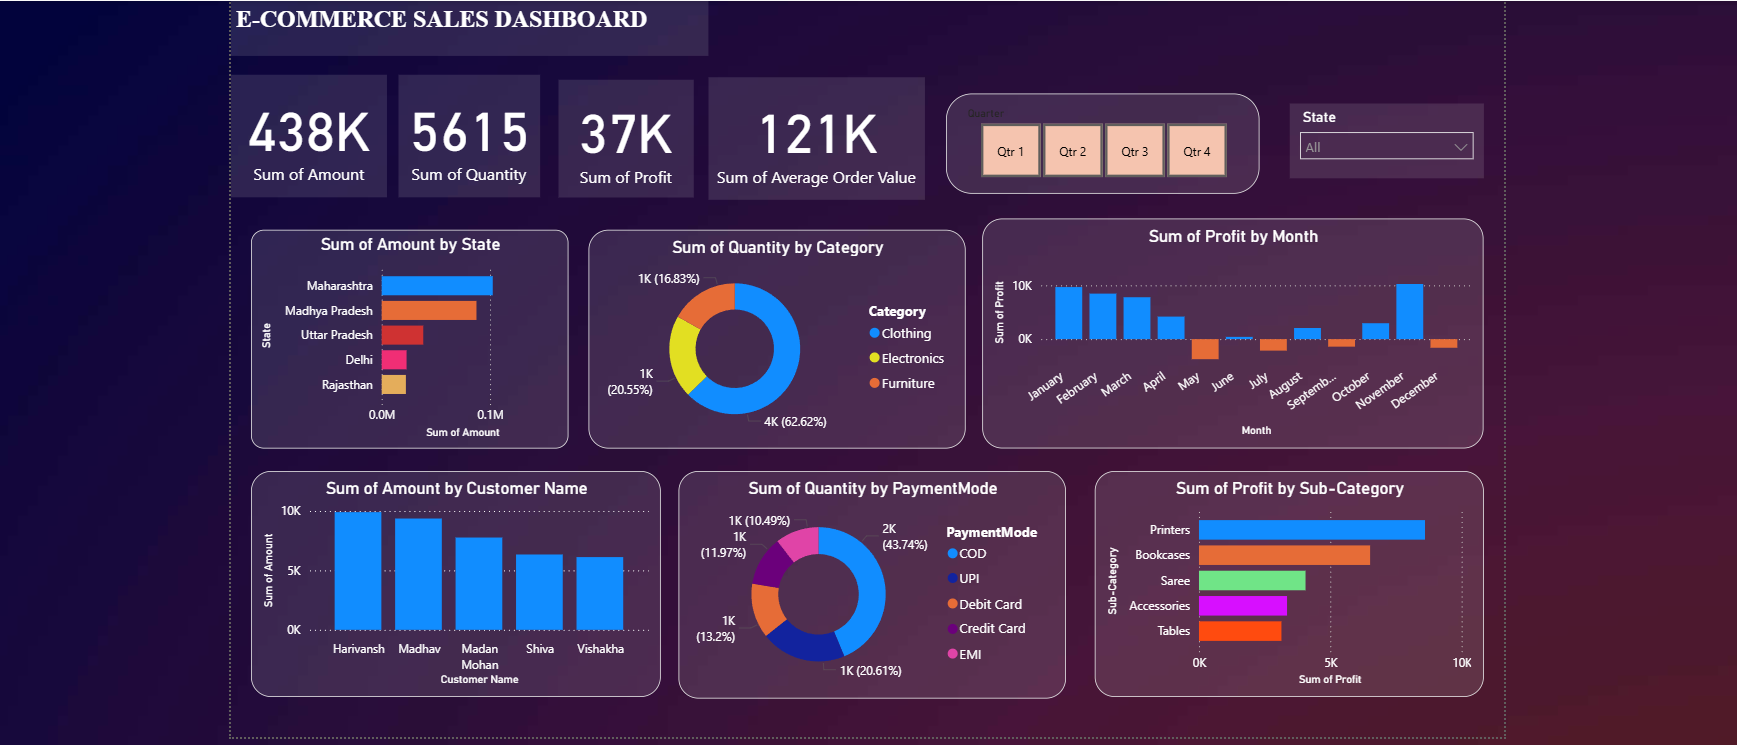

The page's visual inventory and layout, read from the dashboard file:
{"tool":"powerbi","page":{"name":"Page 1","canvas":[1280,740],"ordinal":0},"visuals":[{"type":"textbox","box":[0,0,480.3,54.9],"z":0},{"type":"columnChart","fields":{"Category":["Orders (1).Order Date.Variation.Date Hierarchy.Year","Orders (1).Order Date.Variation.Date Hierarchy.Month"],"Y":["Details.Profit"]},"box":[755.7,218.9,503.8,231.1],"z":1},{"type":"barChart","fields":{"Category":["Details.Sub-Category"],"Y":["Details.Profit"]},"box":[868.4,472.6,390.9,227.5],"z":2},{"type":"donutChart","fields":{"Category":["Details.Category"],"Y":["Details.Quantity"]},"box":[359.5,229.9,379.1,220.1],"z":3},{"type":"donutChart","fields":{"Y":["Details.Quantity"],"Category":["Details.PaymentMode"]},"box":[449.9,472.6,389.6,228.7],"z":4},{"type":"card","fields":{"Values":["Details.Amount"]},"box":[0,74.2,157.1,123.2],"z":5},{"type":"card","fields":{"Values":["Details.Quantity"]},"box":[168.4,74.2,142,123.2],"z":6},{"type":"card","fields":{"Values":["Details.Profit"]},"box":[329.3,79.2,135.7,118.1],"z":7},{"type":"card","fields":{"Values":["Details.Average Order Value"]},"box":[480.1,76.7,217.4,123.2],"z":8},{"type":"barChart","fields":{"Category":["Orders (1).State"],"Y":["Details.Amount"]},"box":[20.1,230,319.2,219.9],"z":9},{"type":"columnChart","fields":{"Category":["Orders (1).Customer Name"],"Y":["Details.Amount"]},"box":[20.1,472.6,412.2,227.5],"z":10},{"type":"slicer","fields":{"Values":["Orders (1).Order Date.Variation.Date Hierarchy.Quarter"]},"box":[718.9,93,315.5,100.5],"z":11},{"type":"slicer","fields":{"Values":["Orders (1).State"]},"box":[1064.5,103.1,194.8,75.4],"z":12}]}

Visuals, with their boxes on the page's 1280x740 design canvas (x1, y1, x2, y2). These are canvas units, not pixel positions in the 1737x745 screenshot, which may show the page scaled, cropped or inside an application window:
textbox: detection(0, 0, 480, 55)
columnChart - Orders (1).Order Date.Variation.Date Hierarchy.Year x Orders (1).Order Date.Variation.Date Hierarchy.Month: detection(756, 219, 1260, 450)
barChart - Details.Sub-Category x Details.Profit: detection(868, 473, 1259, 700)
donutChart - Details.Category x Details.Quantity: detection(360, 230, 739, 450)
donutChart - Details.Quantity x Details.PaymentMode: detection(450, 473, 840, 701)
card - Details.Amount: detection(0, 74, 157, 197)
card - Details.Quantity: detection(168, 74, 310, 197)
card - Details.Profit: detection(329, 79, 465, 197)
card - Details.Average Order Value: detection(480, 77, 698, 200)
barChart - Orders (1).State x Details.Amount: detection(20, 230, 339, 450)
columnChart - Orders (1).Customer Name x Details.Amount: detection(20, 473, 432, 700)
slicer - Orders (1).Order Date.Variation.Date Hierarchy.Quarter: detection(719, 93, 1034, 194)
slicer - Orders (1).State: detection(1064, 103, 1259, 178)
